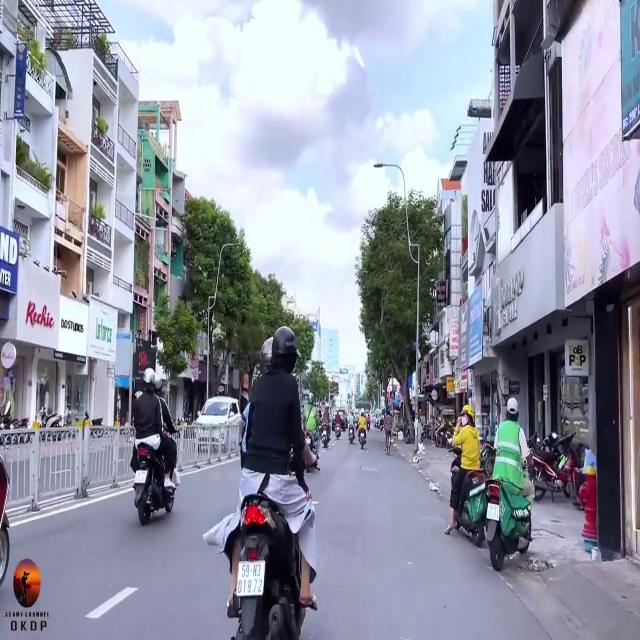bien_trang: (235, 557, 269, 600)
